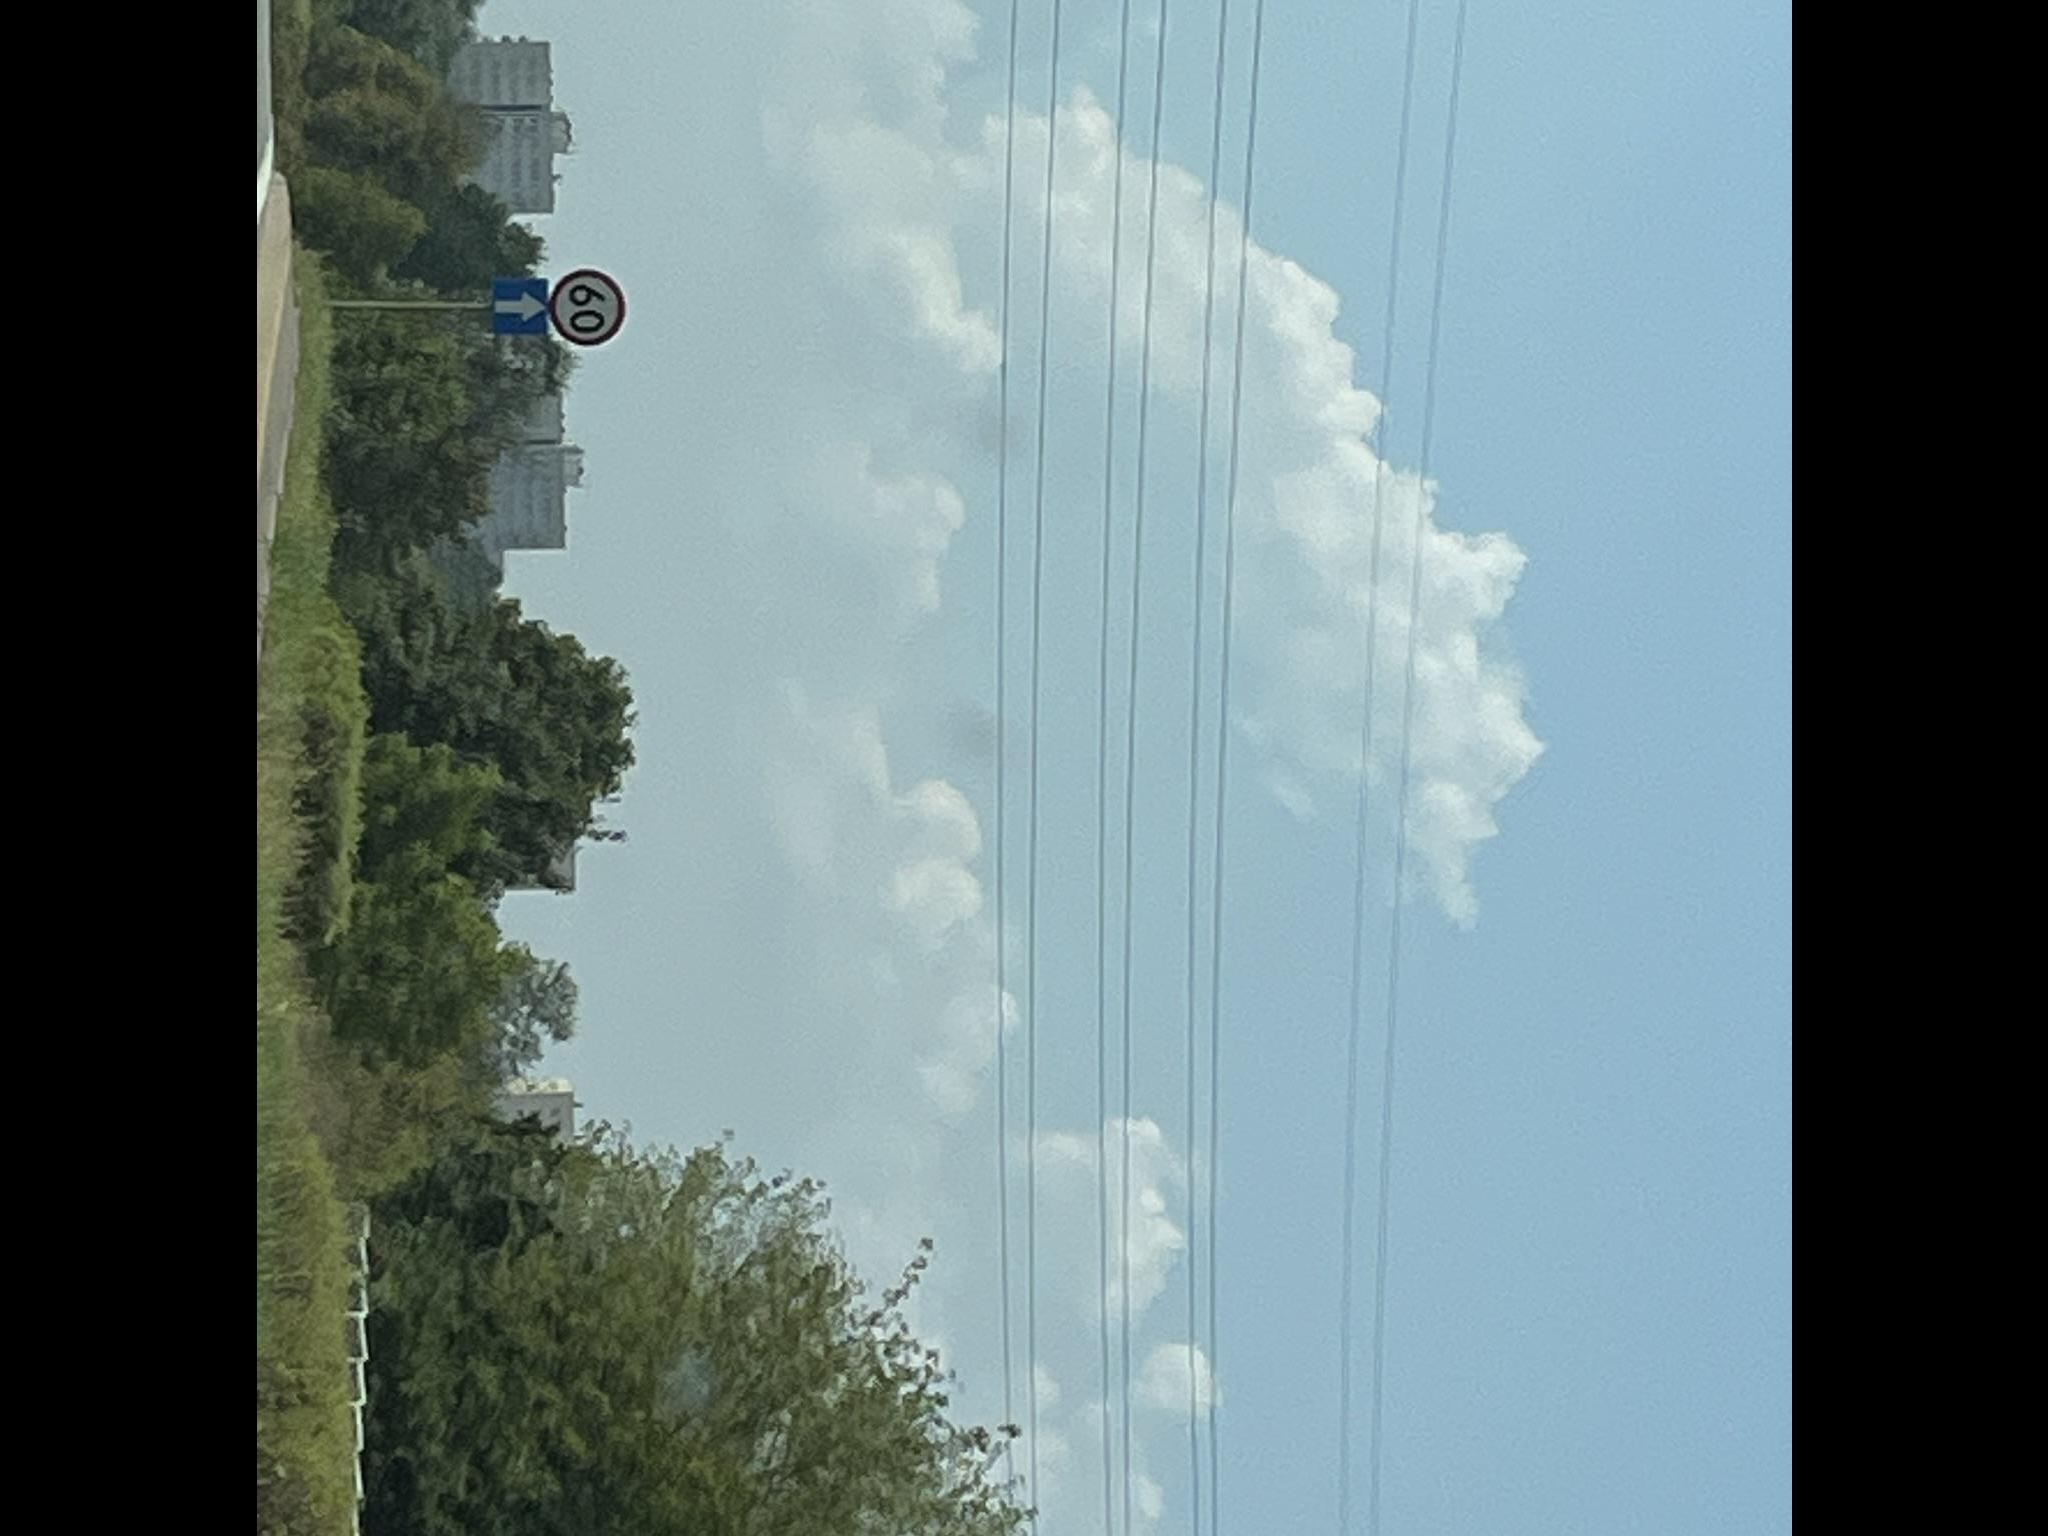prohibitory: (547, 269, 627, 347), (490, 279, 547, 336)
